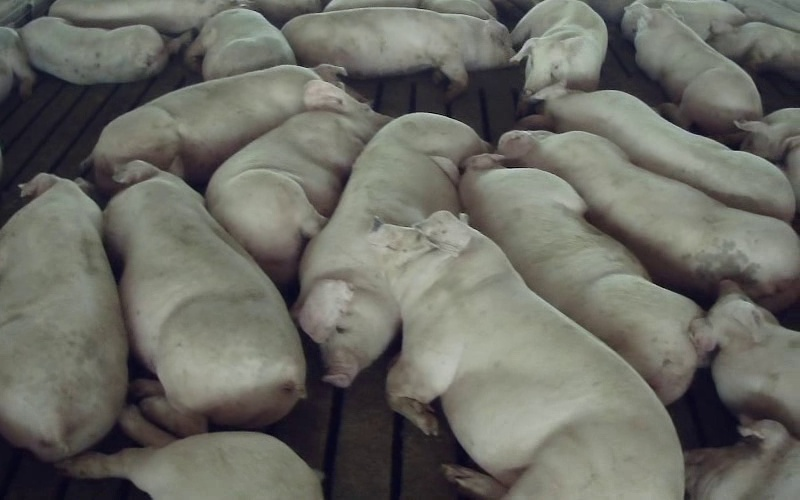pig: (369, 211, 681, 499), (459, 154, 700, 403), (104, 157, 305, 435), (498, 130, 799, 311), (295, 113, 487, 386), (522, 84, 794, 221), (206, 79, 387, 284), (0, 173, 127, 461), (91, 65, 345, 192), (58, 405, 322, 499), (282, 7, 512, 98), (621, 2, 761, 135), (691, 282, 799, 437), (19, 17, 192, 84), (510, 0, 607, 94), (185, 8, 295, 79), (49, 0, 236, 33)
